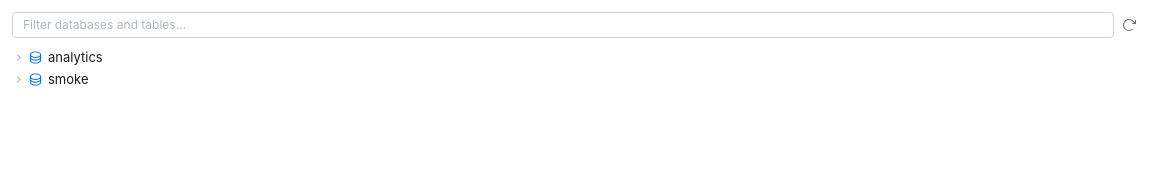
Test case: schema filter › Refresh schema reloads the tables the search found
Expected: the text "smoke" is shown, [48,69,88,89]
In the field with placeholder "Filter databases and tables…": (563,25) [12,12,1114,38], type "orde"
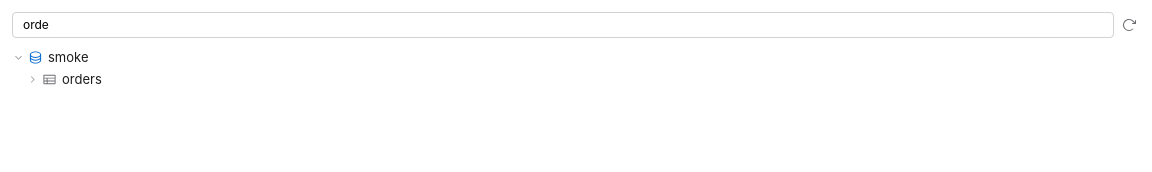
Now the text "orders" is shown, box [62,69,102,89]
Click the button named "Refresh schema": (1129,25) [1118,14,1140,36]
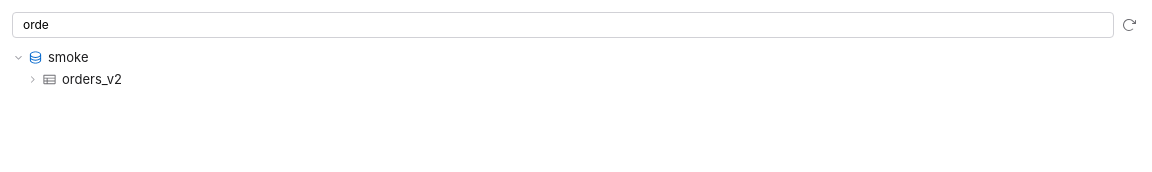
Now the text "orders_v2" is shown, box [62,69,122,89]
